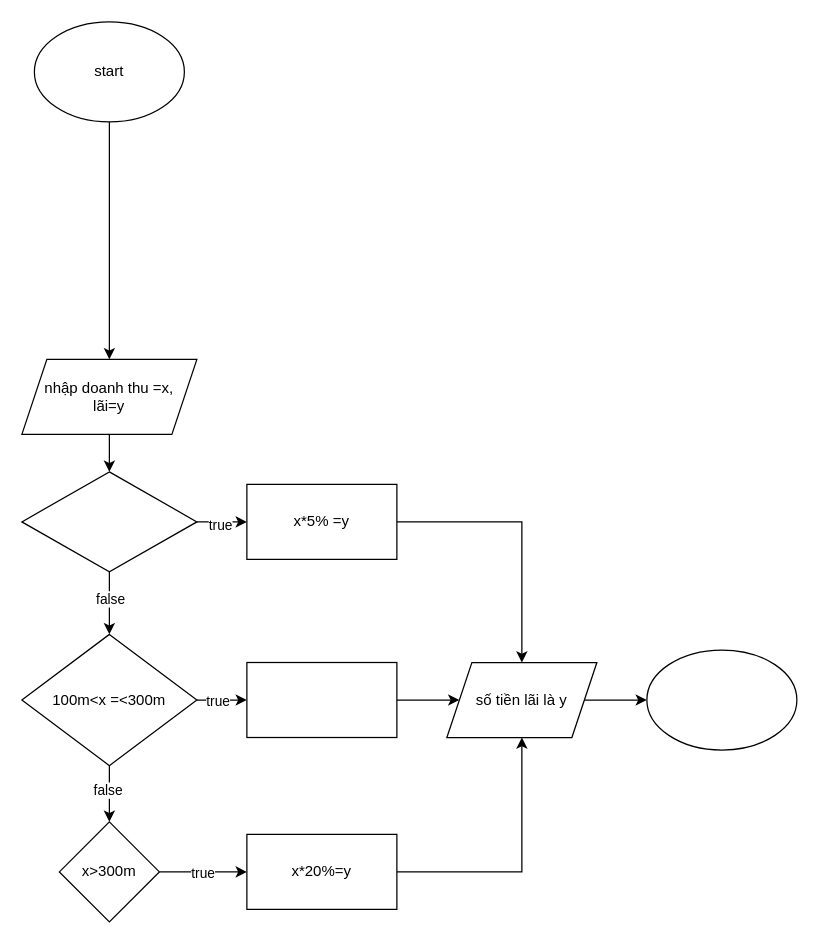
The diagram is 819 pixels wide and 944 high, and some of its shapes have lost their labels. Here are the shapes that lost their labels. From the top down, the box of each, then its label:
(21, 471, 197, 572): x =< 100m
(246, 661, 397, 738): x*10%=y
(646, 649, 797, 750): end
